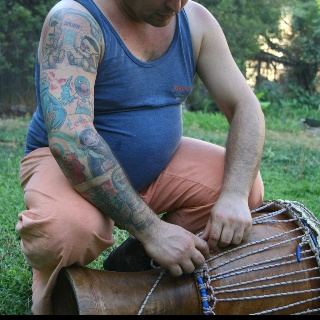without_mask: (124, 0, 188, 27)
